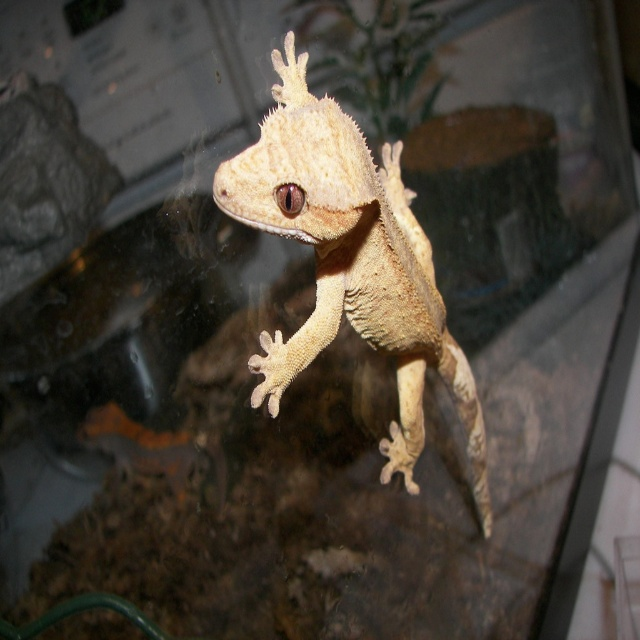Lizard: (215, 30, 490, 533)
